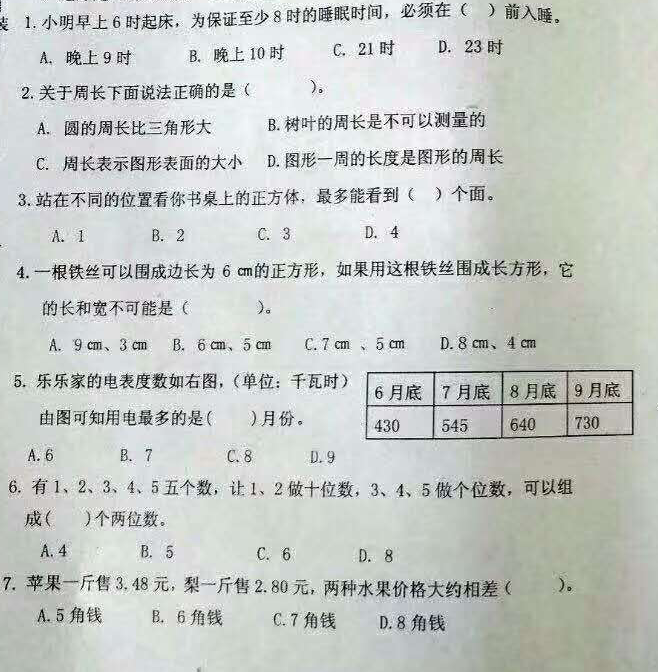text: (11, 257, 580, 287), (3, 571, 582, 600), (17, 1, 575, 30), (31, 36, 514, 67), (22, 108, 501, 136), (29, 145, 517, 172), (31, 604, 456, 635), (5, 477, 582, 499), (45, 332, 548, 357), (7, 183, 501, 206), (28, 542, 407, 568), (36, 405, 308, 436), (3, 370, 350, 393), (18, 445, 350, 469), (16, 78, 332, 101), (45, 225, 404, 241), (35, 297, 275, 320), (18, 507, 170, 531)
